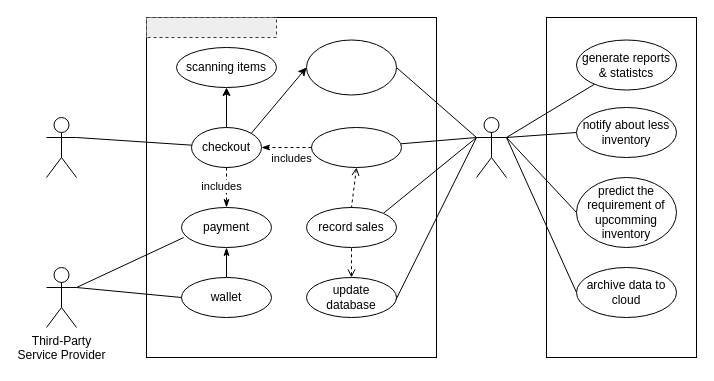
Image size: 714x381. Some labels were removed from this diagram. Each missing label, with the box of its shape:
calculating cost & taxes: (306, 39, 396, 95)
Customer: (46, 116, 76, 178)
Our software: (476, 116, 506, 178)
POS Model: (146, 16, 276, 38)
update inventory: (310, 126, 402, 168)
